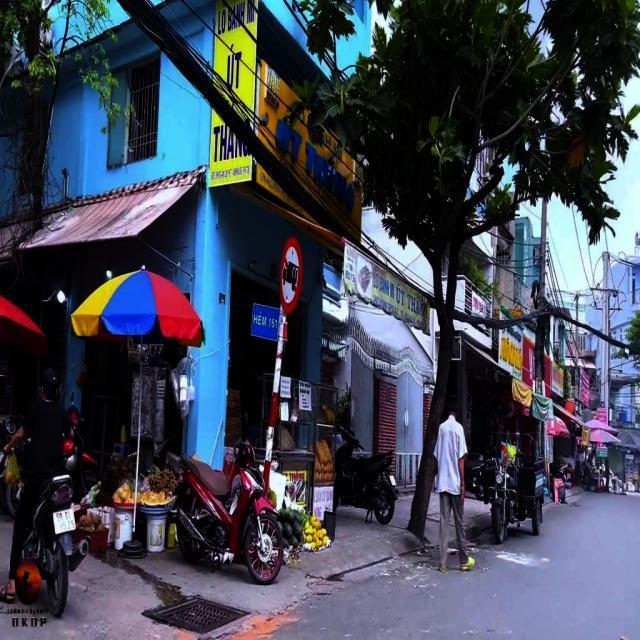106-cam-oto-tai: (280, 236, 302, 315)
